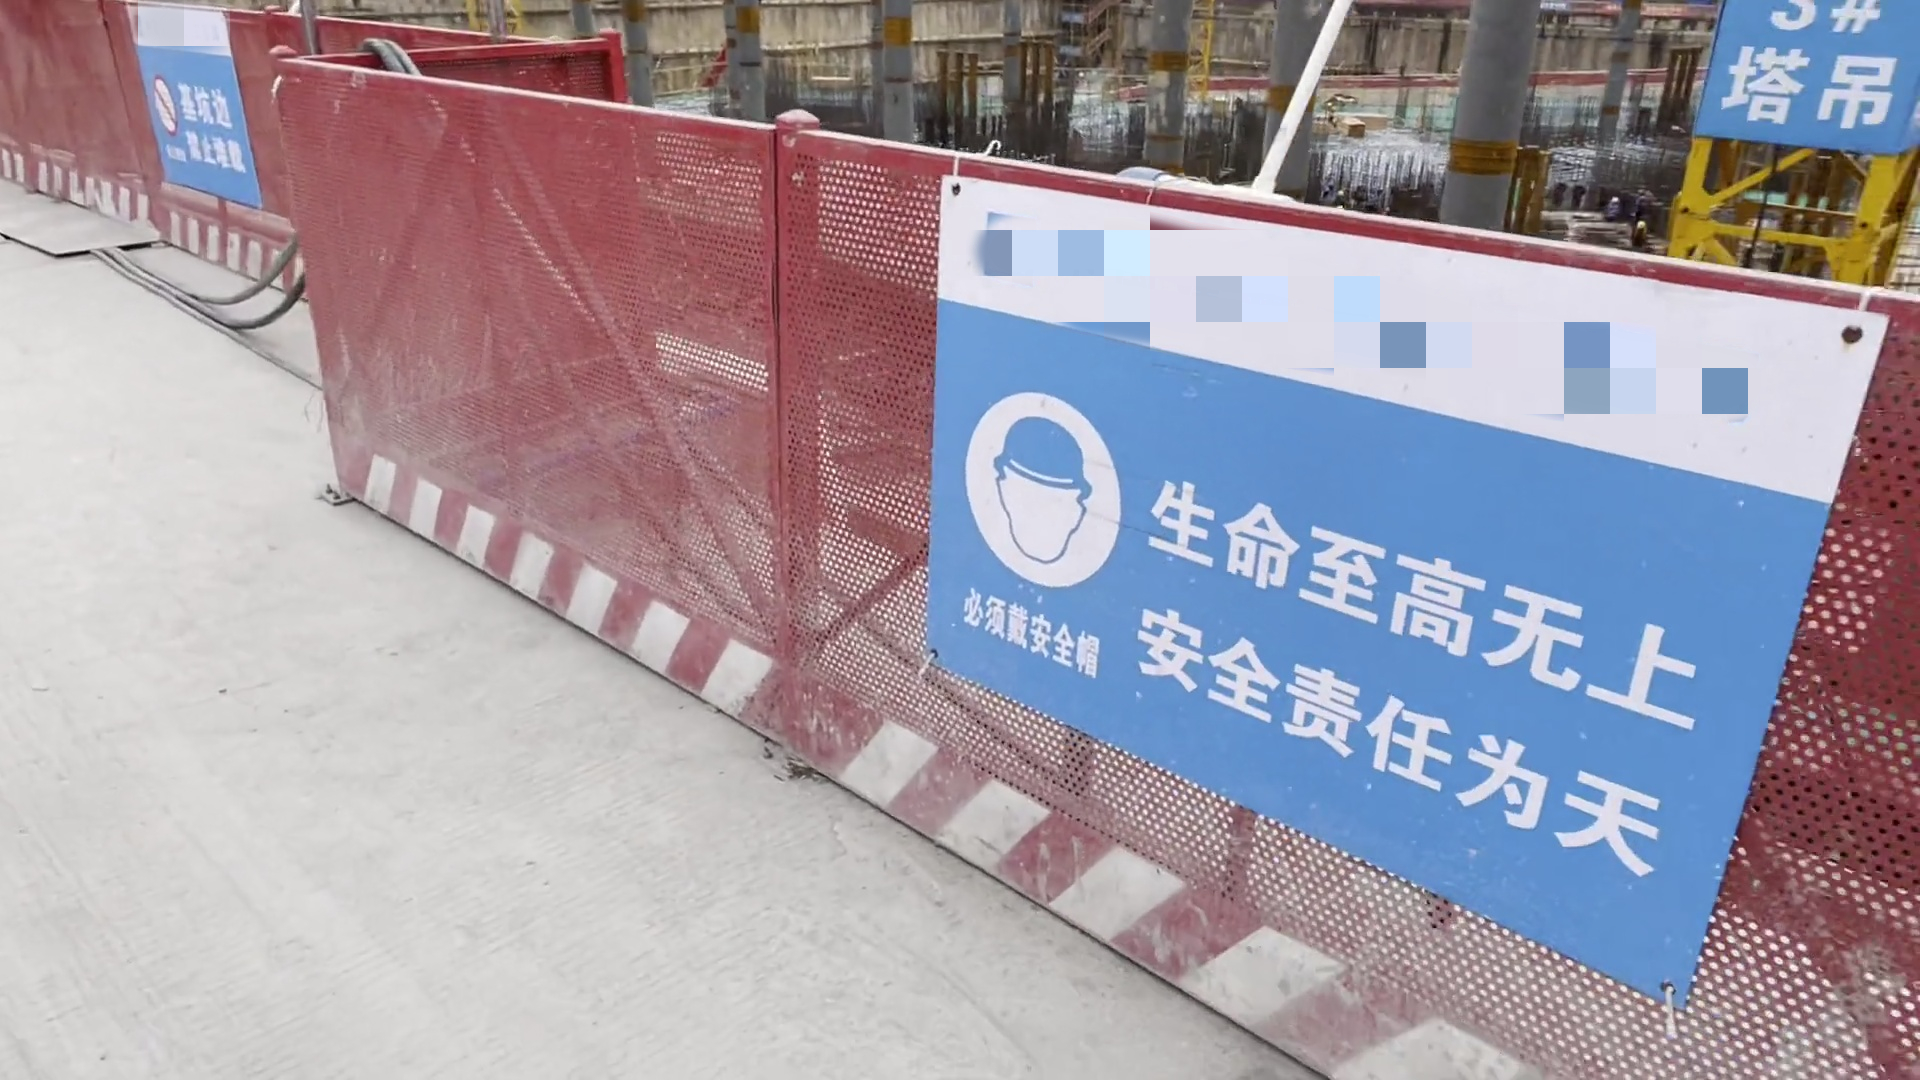fence: (299, 73, 1920, 1029)
slogan: (1025, 299, 1815, 899), (1706, 5, 1891, 127), (123, 21, 258, 185)
